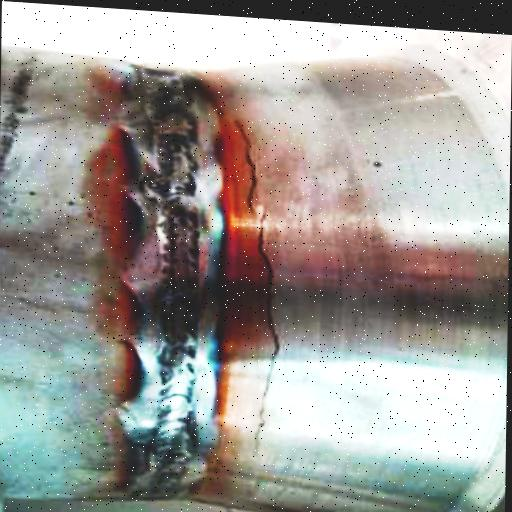crack: (226, 112, 310, 453)
